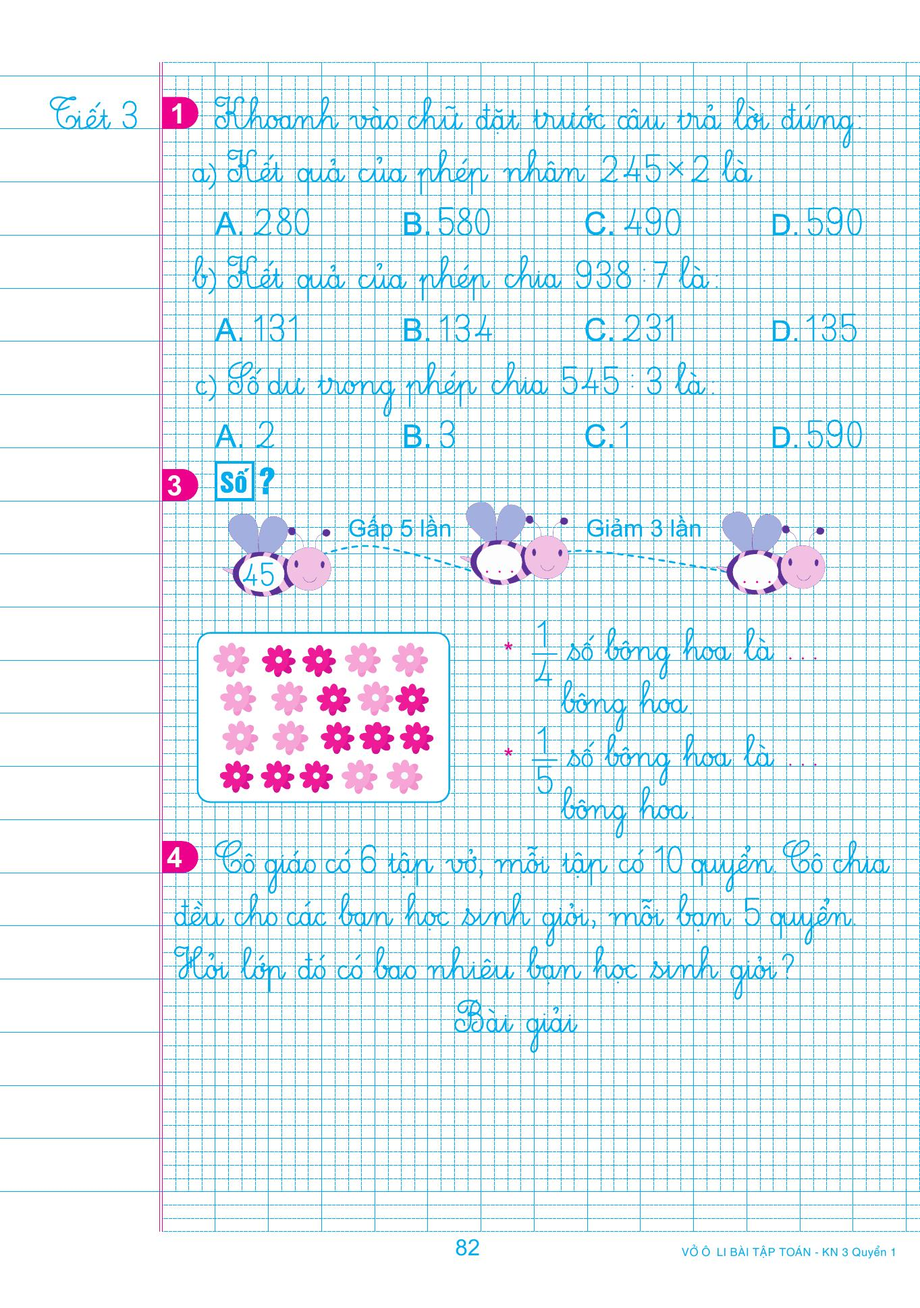Trắc nghiệm: (161, 76, 920, 456)
Tự luận: (157, 838, 920, 1192)
Điền từ: (157, 458, 920, 838)
